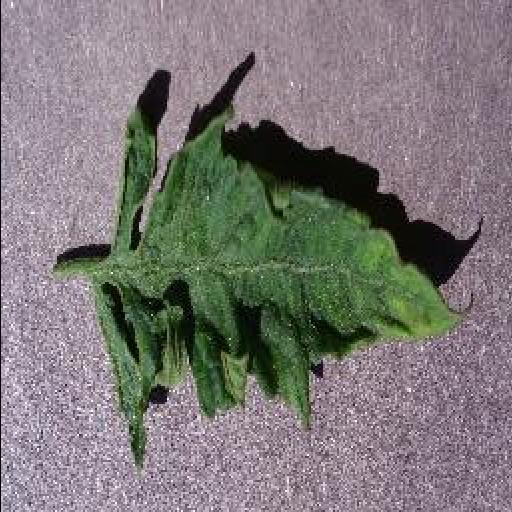Mosaic Virus: (94, 94, 472, 470)
